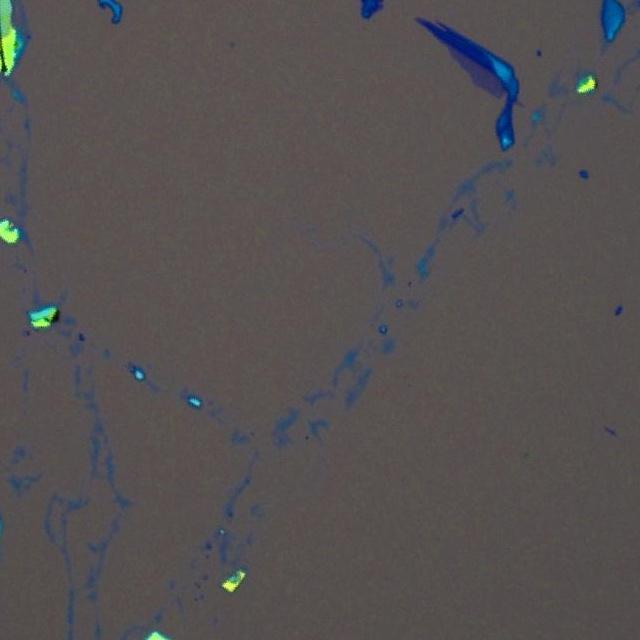monolayer-eWW4: (444, 44, 506, 99)
